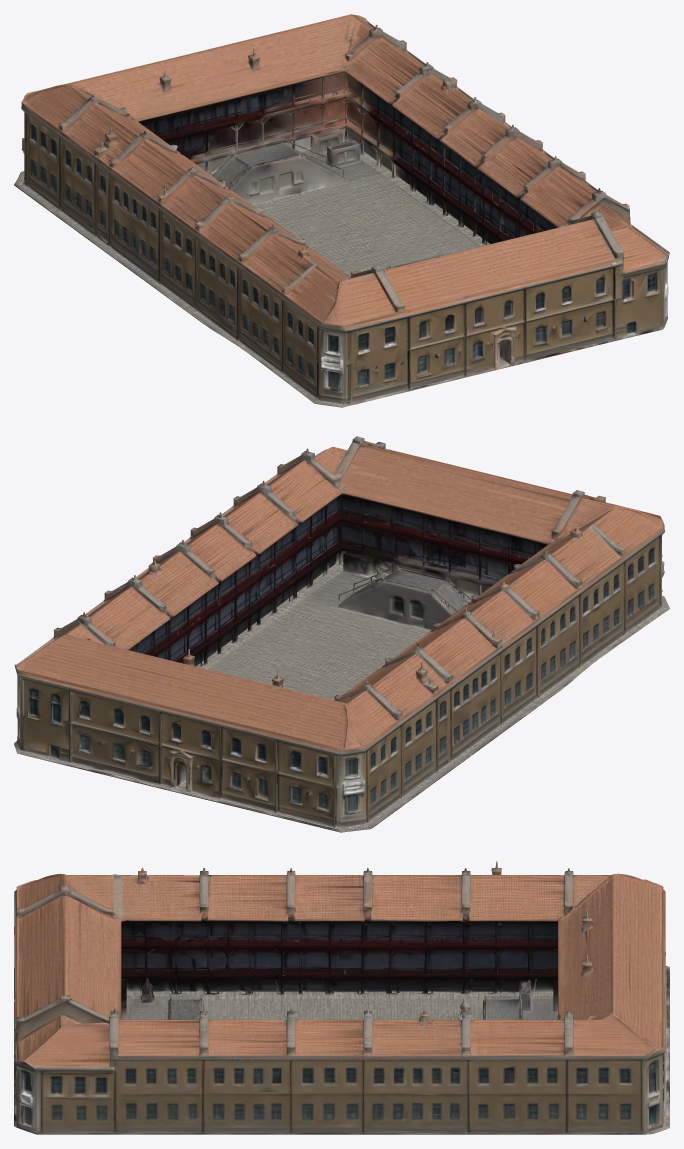
Rendered from qingdao-railway-station.glb.
3 renders of one model, top to bottom at view 1: azimuth 30°, elevation 25°; view 2: azimuth 150°, elevation 25°; view 3: azimuth 270°, elevation 25°, orthographic.
Parts seen in each view (by area): view 1: node_0; view 2: node_0; view 3: node_0.
Part boxes in pixels (x1,y1,x2,y2): node_0: [14, 14, 669, 407]; node_0: [14, 436, 669, 832]; node_0: [14, 861, 669, 1134].
Size of the model in its own units: 0.6534 by 0.1928 by 1.02.
1 material, 1 textured.
